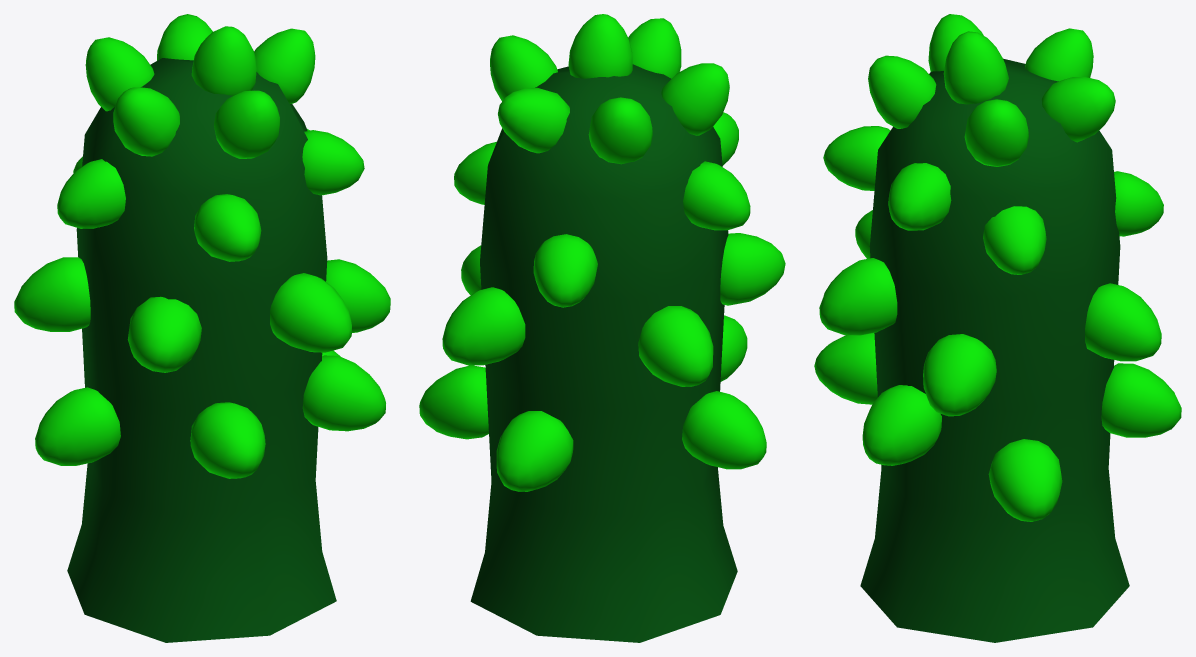
File: Cacto_2.fbx
3 renders of one model, left to right at view 1: azimuth 30°, elevation 25°; view 2: azimuth 150°, elevation 25°; view 3: azimuth 270°, elevation 25°, orthographic.
Parts seen in each view (by area): view 1: Cacto 2; view 2: Cacto 2; view 3: Cacto 2.
Part boxes in pixels (<box>): Cacto 2: <box>14,14,390,642</box>; Cacto 2: <box>419,14,785,642</box>; Cacto 2: <box>814,14,1181,642</box>.
Size of the model in its own units: 256 by 420 by 250.
